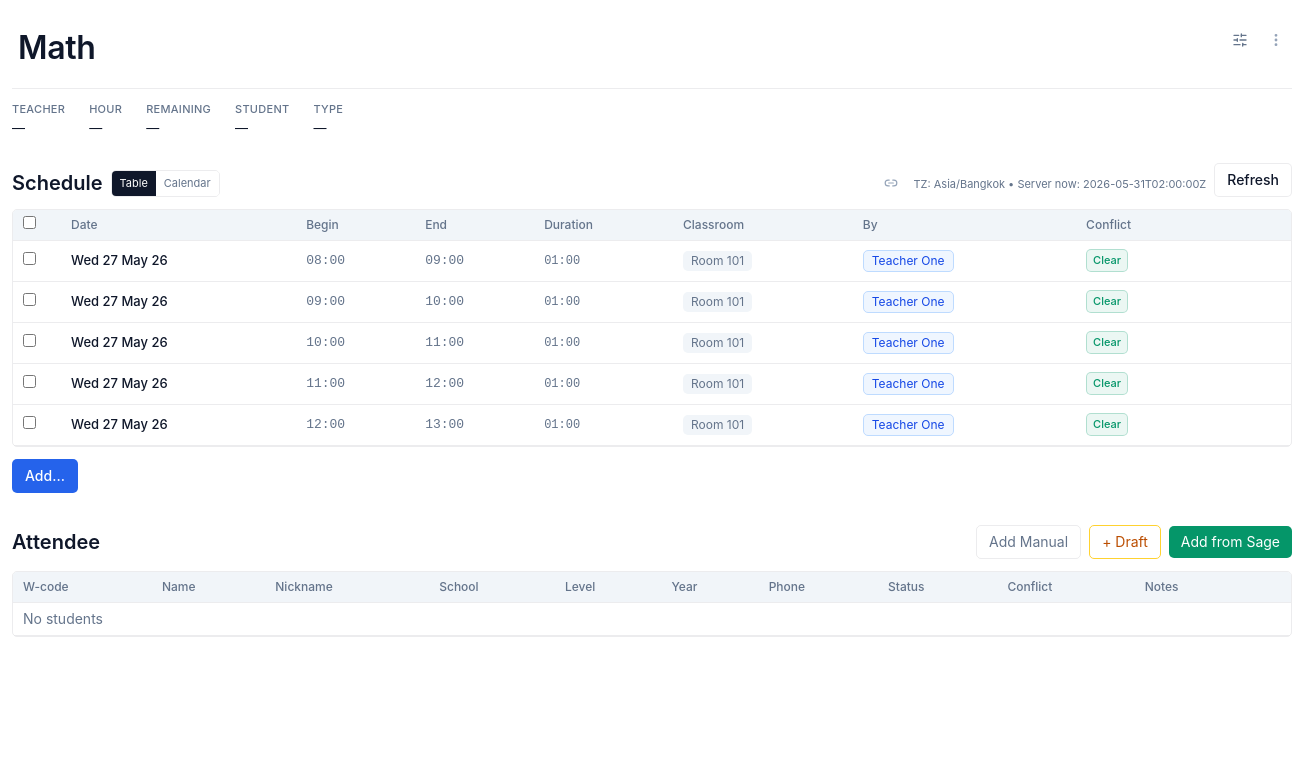
Test: CourseDetail calendar grid › shows a month grid with merged day cells and drills into day view
Check: the button "Add…" is shown, box left=12, top=458, right=78, bottom=492
Step 1. Click the button "Calendar" → (187, 183), box left=156, top=171, right=219, bottom=196
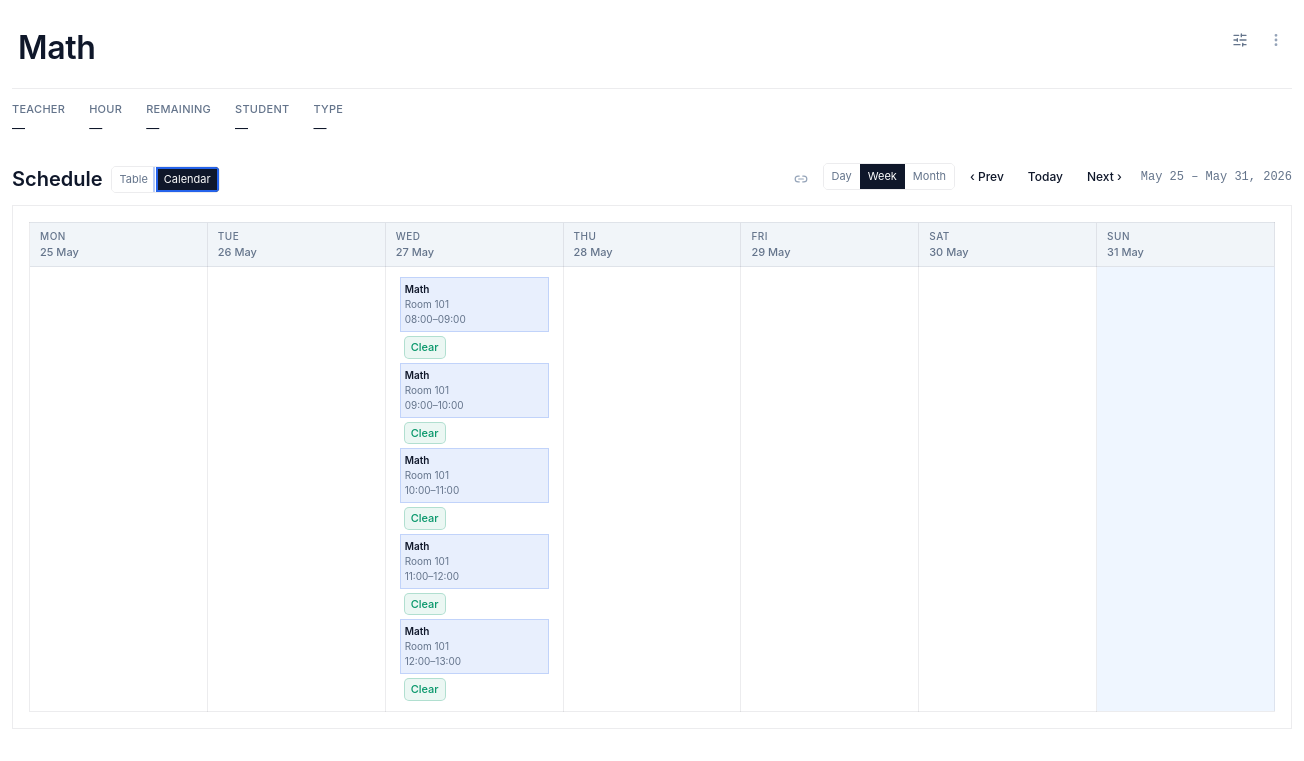
Step 2. Click the button "Month" → (929, 177), box left=905, top=164, right=954, bottom=189
(page scrolled)
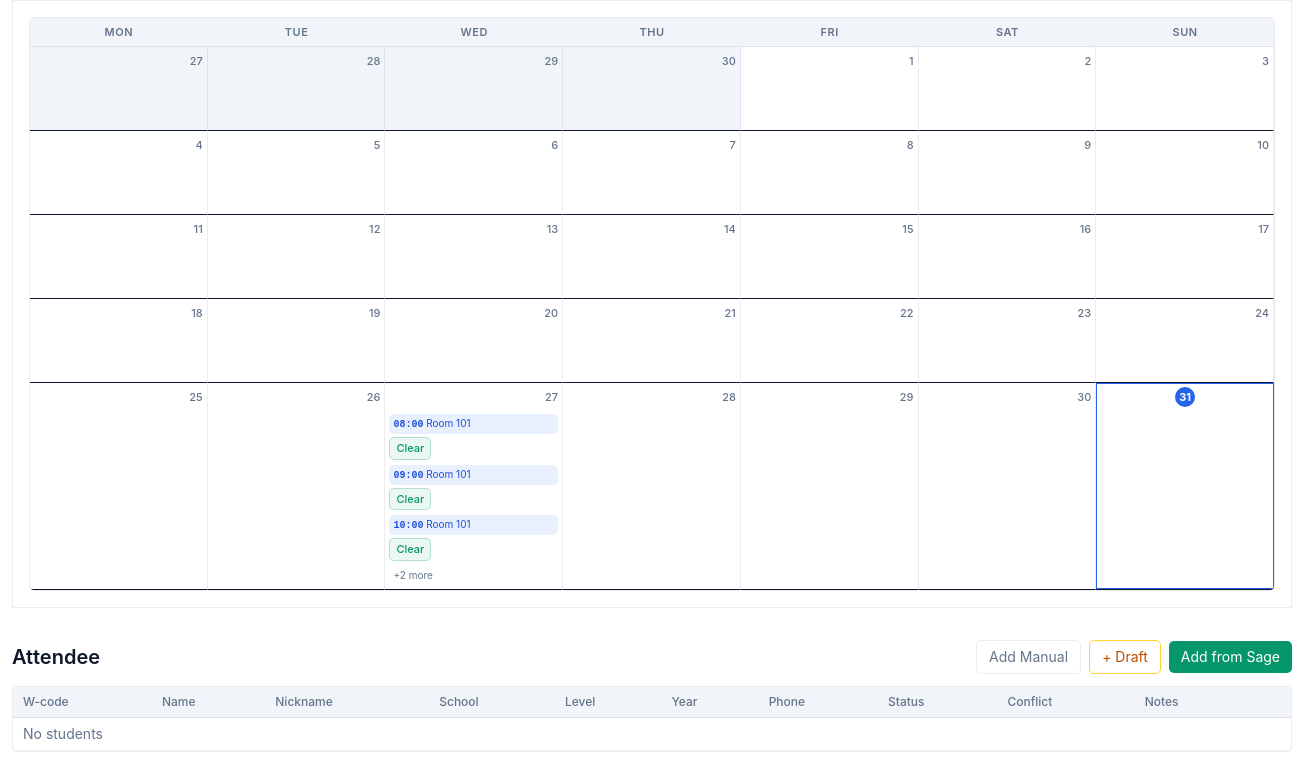
Check: the button named "Show Wednesday, 27 May 2026" is shown, box left=389, top=387, right=558, bottom=407
Check: the number of buttons named "edit session" is 3, box left=389, top=414, right=558, bottom=434; left=389, top=464, right=558, bottom=484; left=389, top=515, right=558, bottom=535
Check: the button with aria-label "show all sessions" is shown
Note: Drilling into the day shows every session of the day in a single cell.
Step 3. Click the button with aria-label "show all sessions" → (474, 575), box left=389, top=568, right=558, bottom=582
(page scrolled)
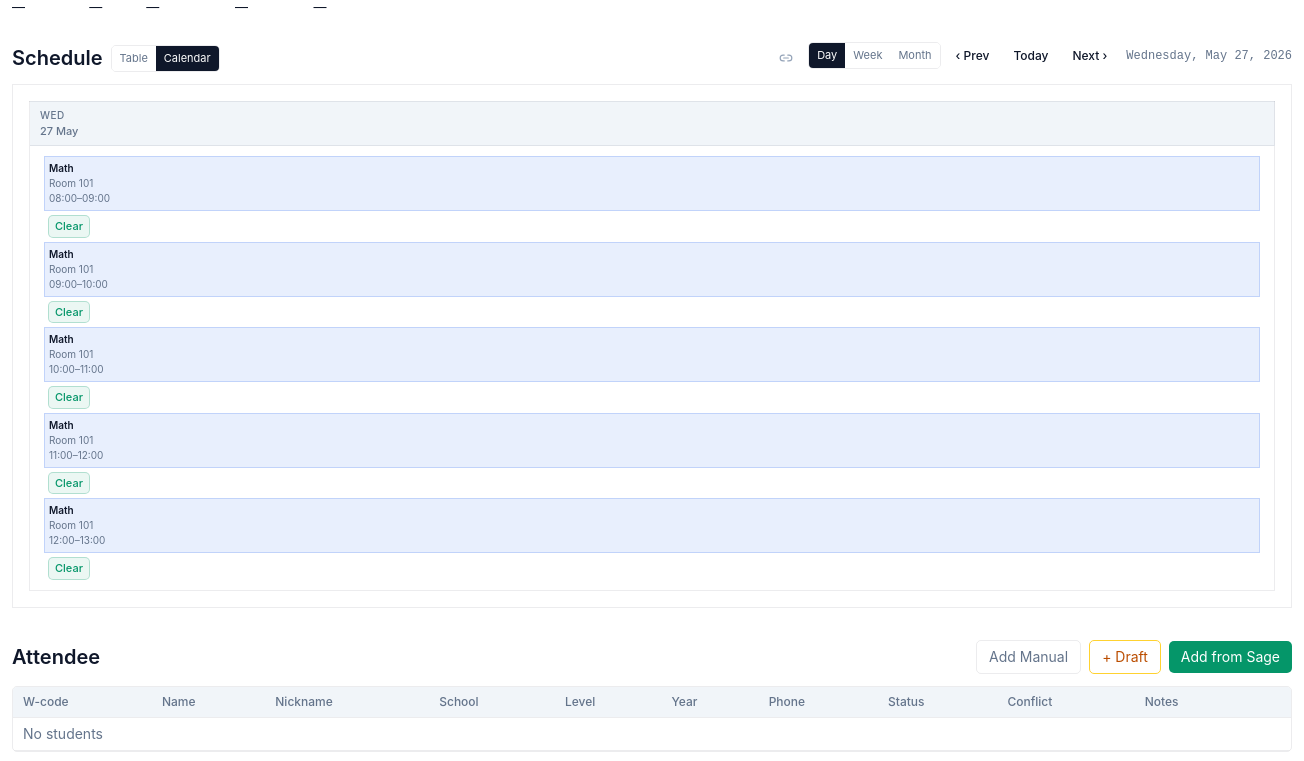
Check: the text "08:00–09:00" is shown 5 times, box left=49, top=192, right=110, bottom=204; left=49, top=278, right=108, bottom=290; left=49, top=363, right=104, bottom=375; left=49, top=448, right=103, bottom=460; left=49, top=534, right=105, bottom=546
